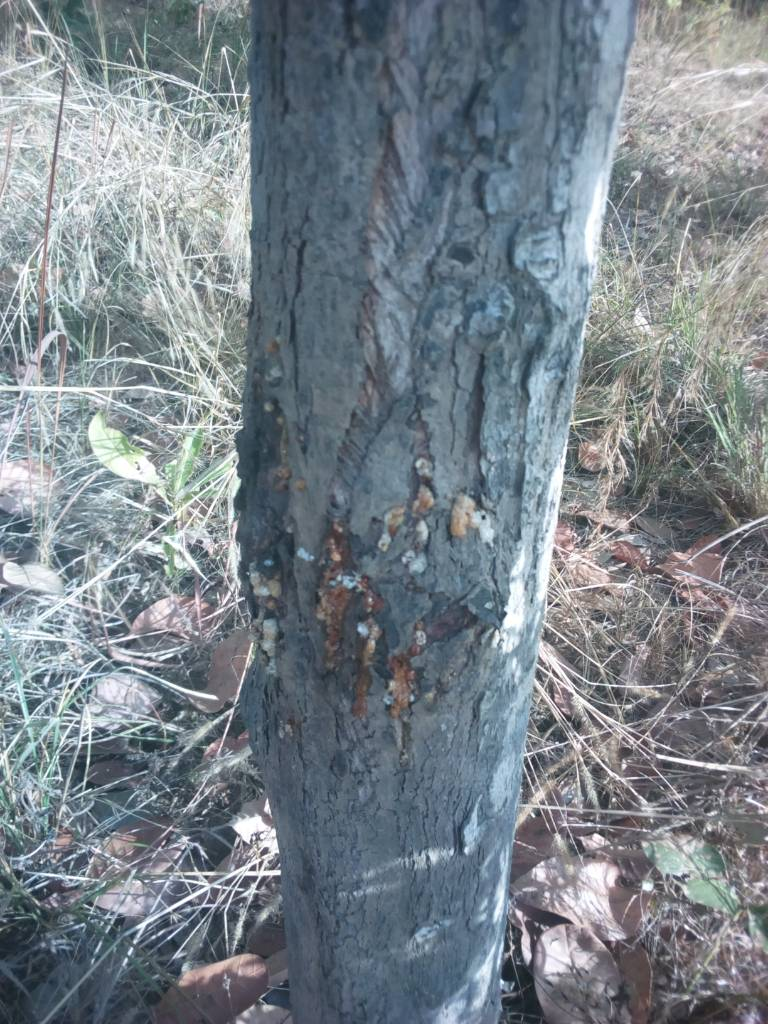Mecocorynus longiceps: (282, 440, 518, 792)
